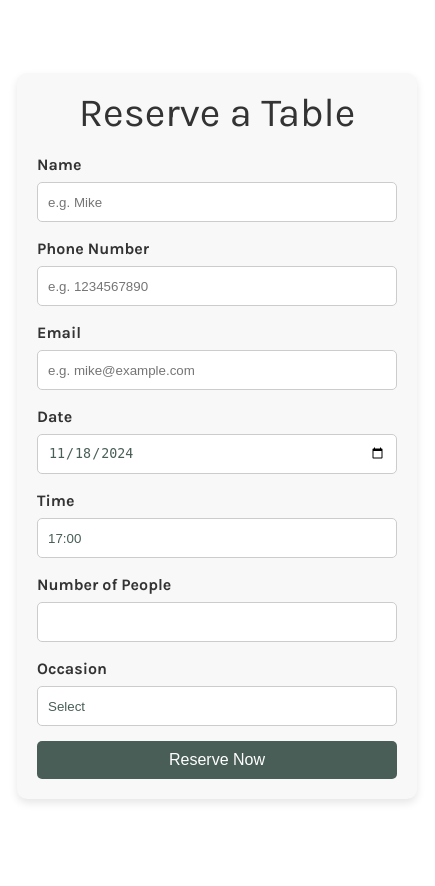
Form validation logic › shows error if date is empty
Clear the date field labelled "Date": (217, 454) [37, 434, 397, 474]
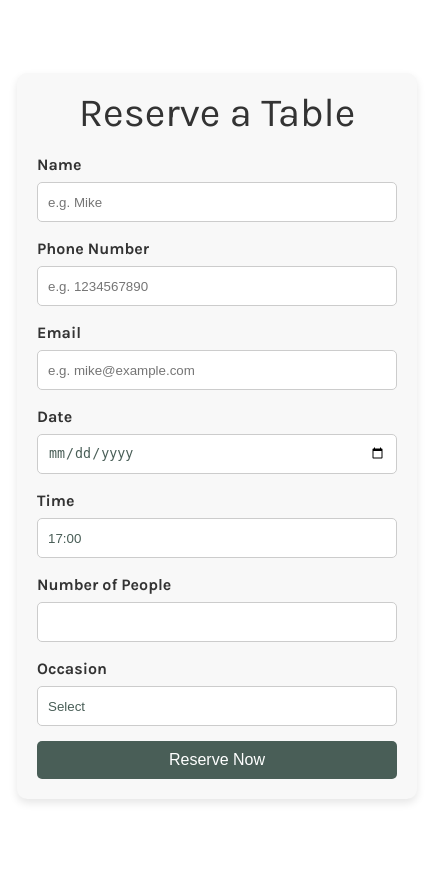
Click the button "Reserve Now": (217, 760) [37, 741, 397, 779]
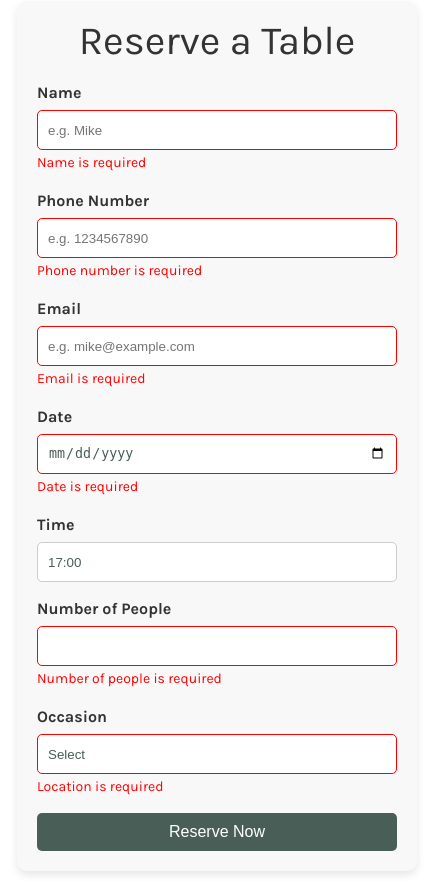
Result: the text "Date is required" is shown at [37, 478, 138, 495]
